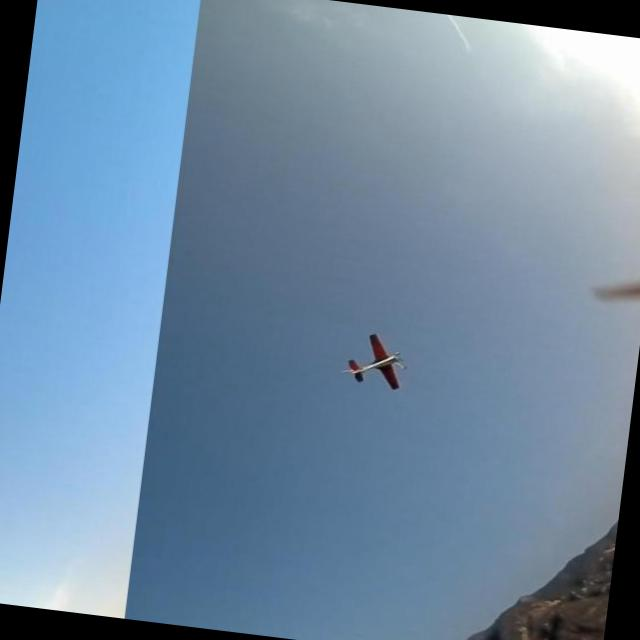UAV: (320, 302, 418, 388)
